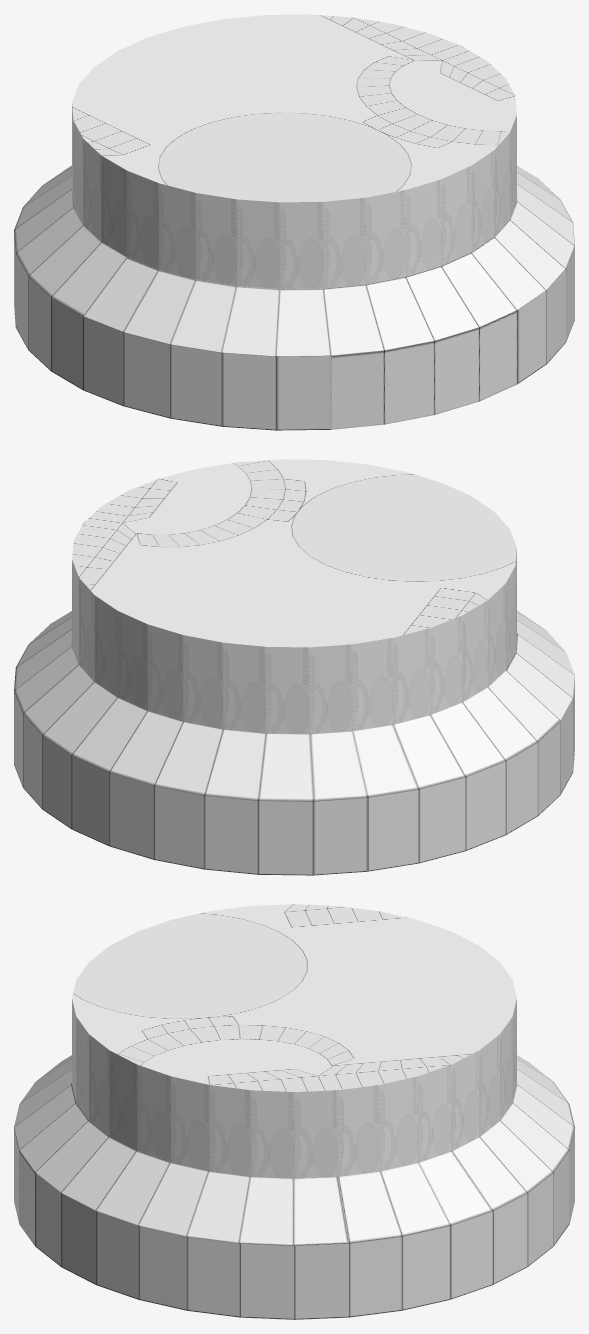
Rendered from button.fbx.
3 views of the same model, one above another, from view 1: azimuth 30°, elevation 25°; view 2: azimuth 150°, elevation 25°; view 3: azimuth 270°, elevation 25° (orthographic).
Parts seen in each view (by area): view 1: Circle; view 2: Circle; view 3: Circle.
Boxes of the visible parts, x1,y1,x2,y2 form: Circle: [14, 14, 574, 430]; Circle: [14, 459, 574, 875]; Circle: [14, 904, 574, 1319].
Size of the model in its own units: 200 by 79.93 by 200.
